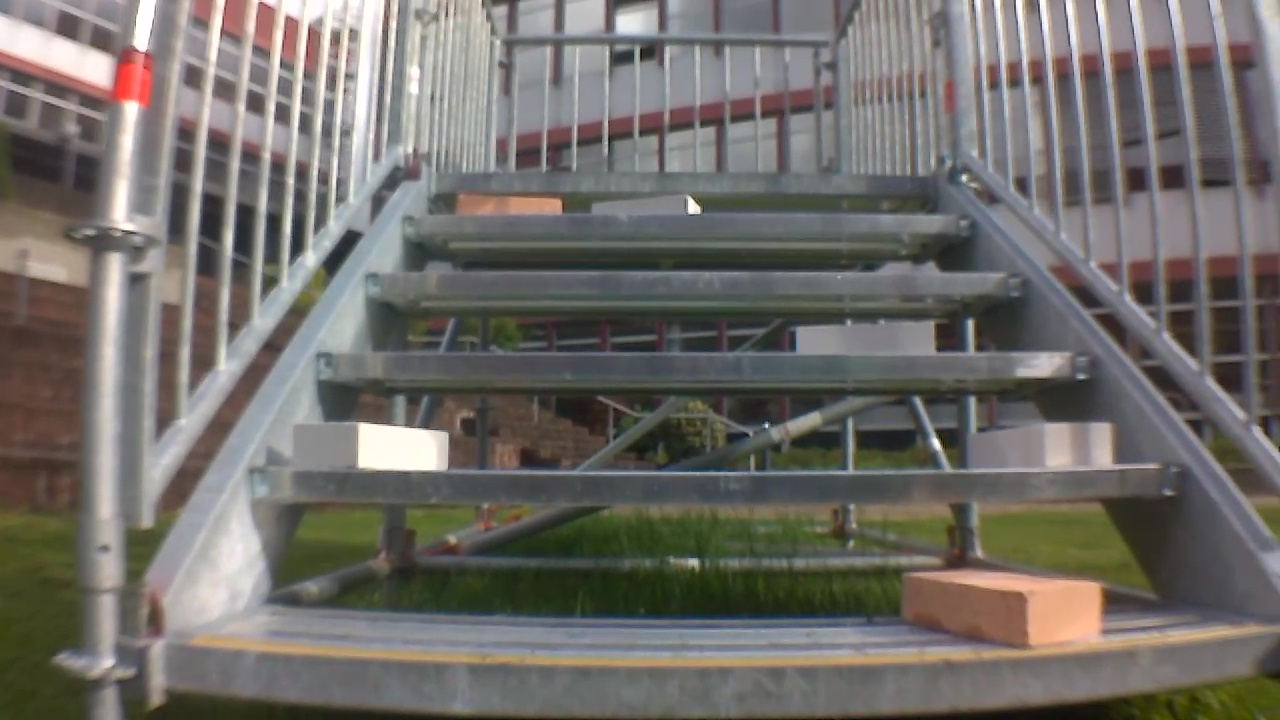brick: (902, 570, 1100, 647), (292, 422, 448, 470), (968, 422, 1115, 468), (797, 321, 932, 354), (592, 194, 699, 213), (456, 194, 561, 212)
edge: (167, 631, 1277, 718), (244, 465, 1186, 505), (314, 351, 1096, 379), (369, 270, 1022, 295), (404, 213, 979, 235), (434, 171, 937, 192)
stairs: (70, 2, 1280, 720)
steps: (164, 167, 1280, 720)
